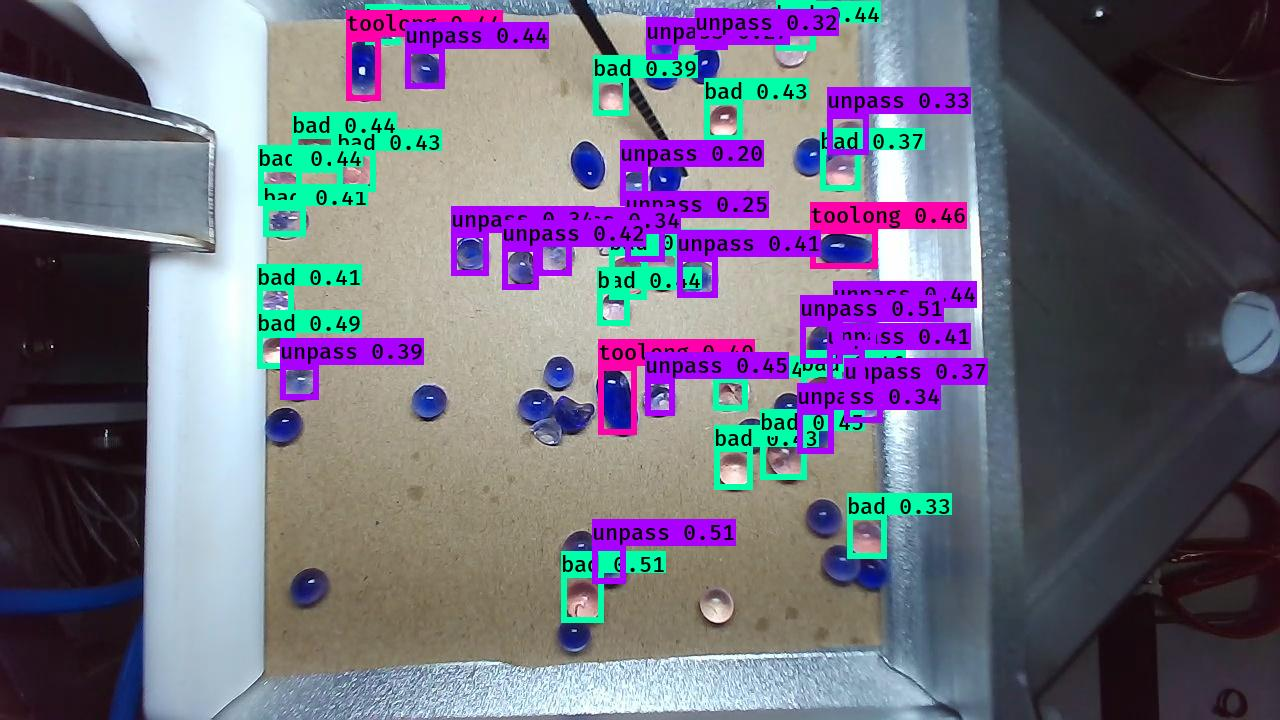bad: (765, 437, 808, 485), (559, 577, 605, 621), (297, 128, 341, 173), (336, 149, 379, 194), (846, 518, 892, 559), (259, 169, 306, 209), (695, 585, 736, 629), (608, 258, 649, 297), (365, 10, 404, 49), (803, 374, 844, 411), (644, 250, 680, 292), (269, 205, 313, 238), (715, 447, 752, 486), (774, 30, 811, 69), (258, 288, 295, 326), (595, 81, 631, 119), (824, 155, 861, 191), (715, 379, 751, 414), (707, 103, 742, 139), (599, 290, 632, 326), (260, 334, 295, 367), (780, 1, 815, 32), (530, 420, 561, 448)
defact: (595, 215, 627, 260)
pass: (551, 391, 596, 443), (570, 140, 609, 190), (263, 408, 306, 449), (287, 568, 330, 609), (818, 542, 859, 585), (515, 391, 554, 435), (411, 382, 452, 423), (559, 526, 595, 569), (806, 500, 845, 539), (555, 614, 593, 654), (734, 417, 772, 456), (648, 160, 686, 199), (793, 135, 827, 178), (644, 54, 680, 93), (540, 354, 575, 393), (773, 390, 807, 429), (688, 48, 720, 85)
toolong: (595, 367, 641, 439), (342, 40, 381, 103), (816, 233, 876, 269)
unpass: (824, 121, 870, 168), (451, 232, 491, 278), (680, 256, 720, 296), (277, 364, 319, 401), (502, 249, 540, 289), (804, 323, 840, 365), (408, 50, 445, 90), (594, 543, 627, 587), (537, 236, 576, 273), (615, 170, 653, 207), (641, 381, 680, 416), (826, 352, 863, 387), (798, 416, 835, 450), (846, 388, 883, 422), (841, 310, 873, 349), (702, 11, 737, 46), (627, 222, 660, 259), (645, 17, 676, 56)
